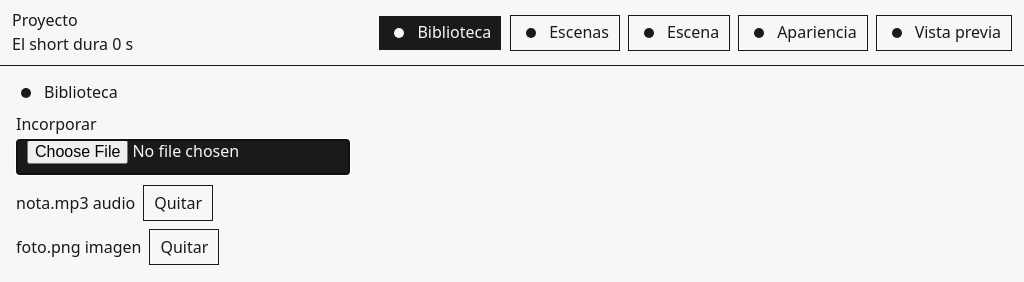
Test: un audio no entra en la elección del medio visual
Earlier steps of the test are not shown.
Click the button "Escenas" at (565, 33), box [510,15,620,51]
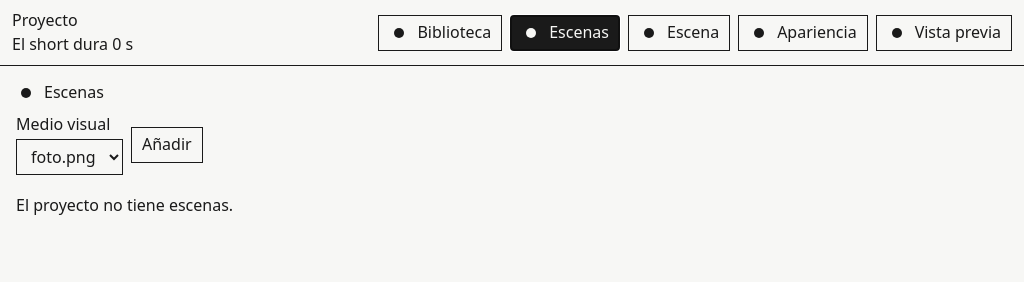
Expected: the text "nota.mp3" is gone
